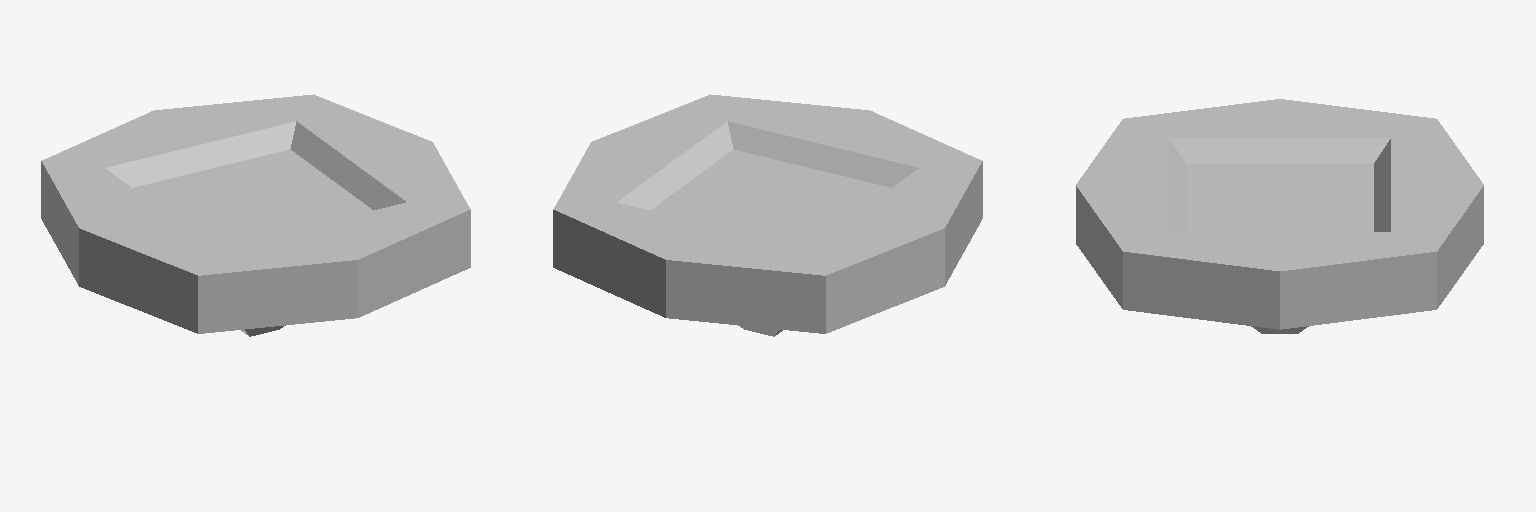
Rendered from 7Disc.obj.
The picture shows the model from 3 angles: view 1: azimuth 30°, elevation 25°; view 2: azimuth 150°, elevation 25°; view 3: azimuth 270°, elevation 25°; orthographic projection.
Parts seen in each view (by area): view 1: 7Disc; view 2: 7Disc; view 3: 7Disc.
Boxes of the visible parts, x1=… form: 7Disc: x1=41, y1=94, x2=470, y2=336; 7Disc: x1=553, y1=94, x2=982, y2=336; 7Disc: x1=1076, y1=99, x2=1483, y2=333.
Size of the model in its own units: 4.23 by 1.62 by 4.23.